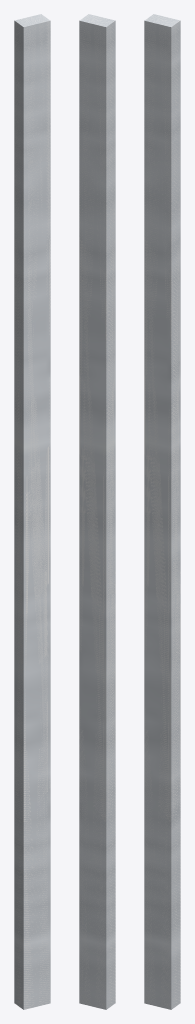
File: original-27.obj
The picture shows the model from 3 angles, left to right: view 1: azimuth 30°, elevation 25°; view 2: azimuth 150°, elevation 25°; view 3: azimuth 330°, elevation 25°; orthographic projection.
Parts seen in each view (by area): view 1: P3_1_1/P3_1/mesh18/mesh18-geometry#mesh18-geometry; view 2: P3_1_1/P3_1/mesh18/mesh18-geometry#mesh18-geometry; view 3: P3_1_1/P3_1/mesh18/mesh18-geometry#mesh18-geometry.
Boxes of the visible parts, box(x1,y1,x2,y2) form: P3_1_1/P3_1/mesh18/mesh18-geometry#mesh18-geometry: box(14, 14, 50, 1009); P3_1_1/P3_1/mesh18/mesh18-geometry#mesh18-geometry: box(79, 14, 115, 1009); P3_1_1/P3_1/mesh18/mesh18-geometry#mesh18-geometry: box(144, 14, 180, 1009).
Bounding box in the file's own units: 0.0204 × 0.7151 × 0.0121.
